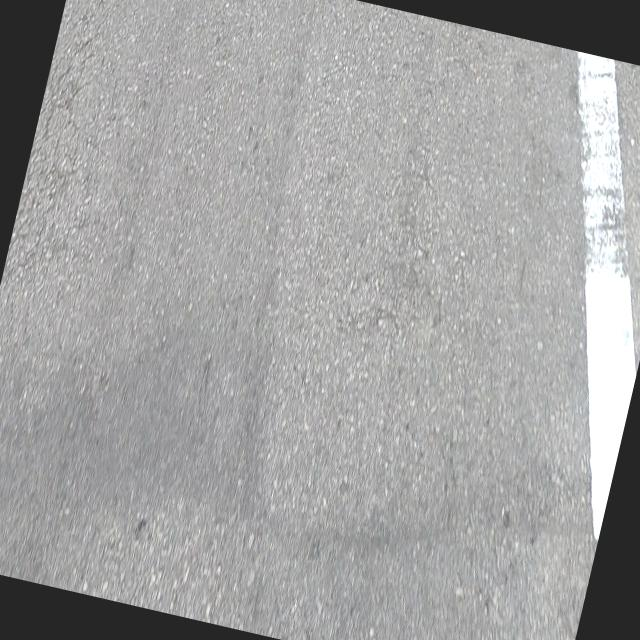Retak-Buaya: (0, 41, 107, 297)
